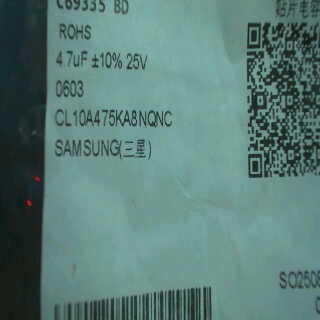4.7uF: (52, 47, 88, 69)
